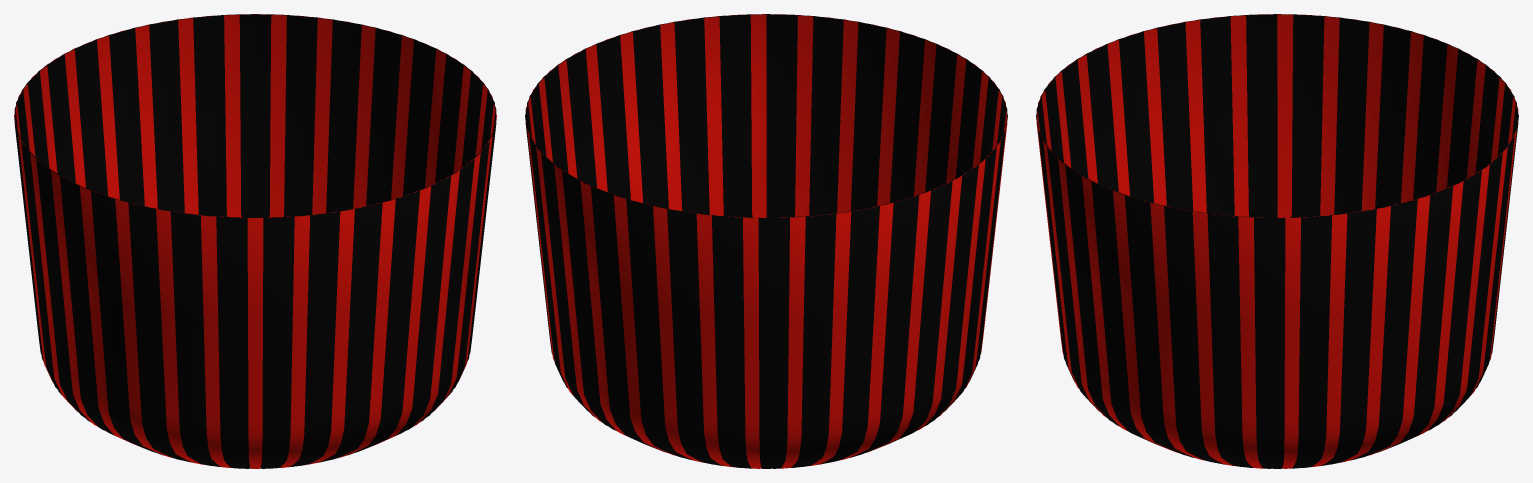
Rendered from p_mesh_plasmadrill_diameter_glow01_pose0.fbx.
The picture shows the model from 3 angles, left to right: view 1: azimuth 30°, elevation 25°; view 2: azimuth 150°, elevation 25°; view 3: azimuth 270°, elevation 25°; orthographic projection.
Parts seen in each view (by area): view 1: plasmadrill_diameter_glow01_pose0; view 2: plasmadrill_diameter_glow01_pose0; view 3: plasmadrill_diameter_glow01_pose0.
Boxes of the visible parts, box(x1,y1,x2,y2) form: plasmadrill_diameter_glow01_pose0: box(14, 14, 496, 468); plasmadrill_diameter_glow01_pose0: box(525, 14, 1007, 468); plasmadrill_diameter_glow01_pose0: box(1036, 14, 1518, 468).
Bounding box in the file's own units: 31.11 × 22.36 × 31.11.
3 materials, 2 textured.
